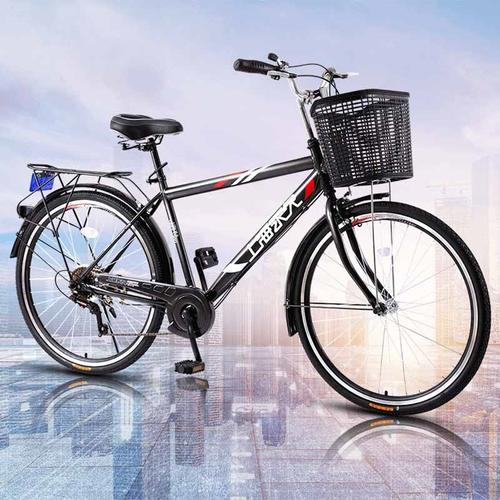单车: (12, 33, 494, 437)
